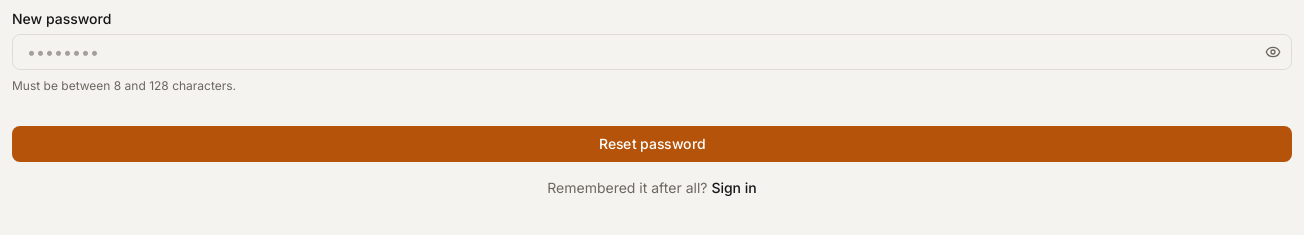
ResetPasswordForm — isolated › validates empty and short password
Click the button named "reset password".
click(652, 144)  # box x1=12 y1=126 x2=1292 y2=162
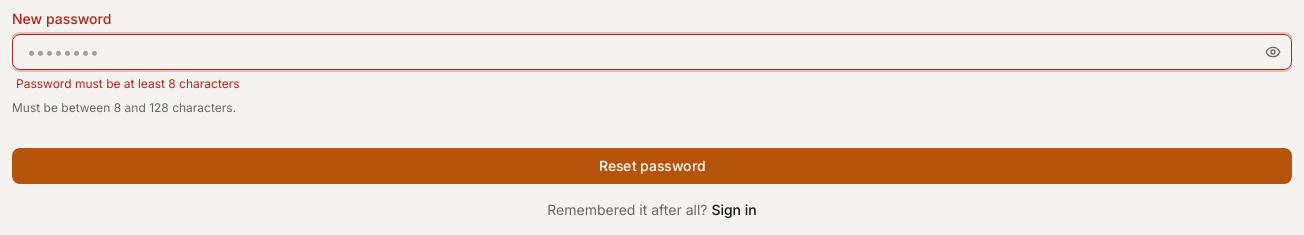
Check: the text "Password must be at least 8 characters" is shown, box x1=16 y1=76 x2=240 y2=91
